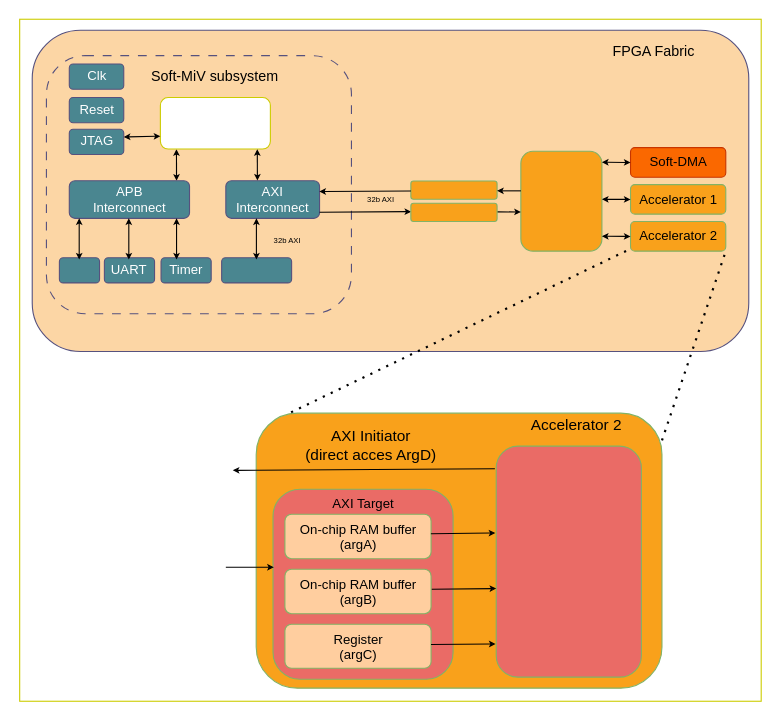
The diagram is 781 pixels wide and 721 high, and some of its shapes have lost their labels. The centre of each missing label's shape, as x and y in pixels:
"Compute Core" goes at pixel 568 561.
"FromHLS" goes at pixel 453 189.
"GPIO" goes at pixel 79 270.
"HLS AXI Interconnect" goes at pixel 561 200.
"LSRAM" goes at pixel 256 270.
"MIV_RV32" goes at pixel 214 122.
"ToHLS" goes at pixel 453 212.
